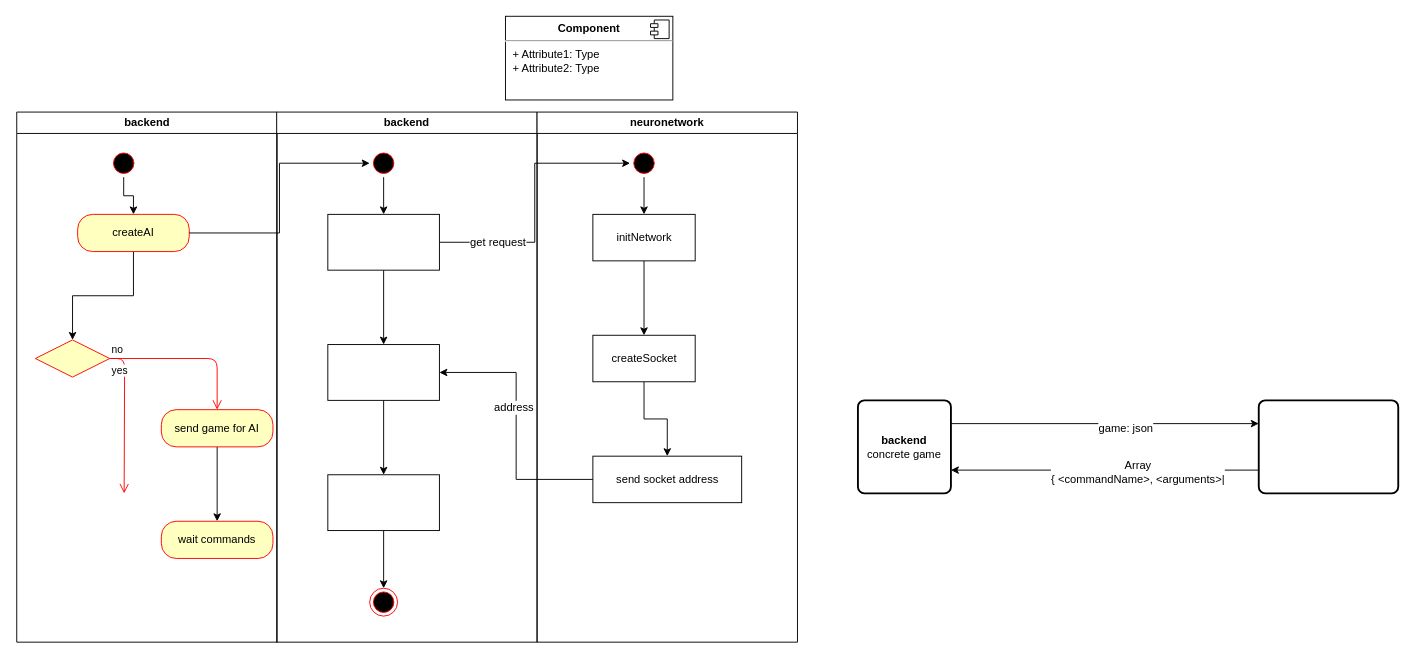
The diagram is 1415 pixels wide and 658 high, and some of its shapes have lost their labels. The centre of each missing label's shape, as x and y in pixels:
AI server concrete network: pixel 1328 446
create connection: pixel 383 502
Game end?: pixel 72 358
send GET request for accept socketAi address: pixel 383 241
wait socketAi address: pixel 383 372
